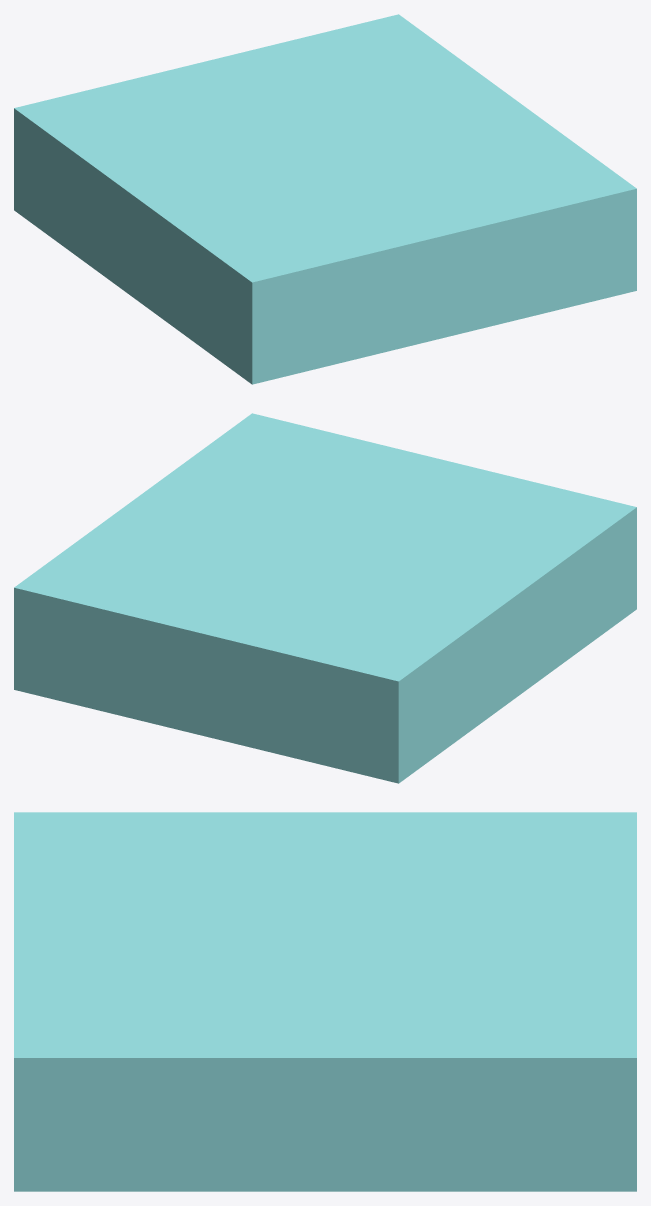
The model's file is compressed_water.glb.
The picture shows the model from 3 angles, top to bottom: view 1: azimuth 30°, elevation 25°; view 2: azimuth 150°, elevation 25°; view 3: azimuth 270°, elevation 25°; orthographic projection. The views are drawn at different scales.
Parts seen in each view (by area): view 1: Object_2; view 2: Object_2; view 3: Object_2.
Boxes of the visible parts, <box> form: Object_2: <box>14,14,636,384</box>; Object_2: <box>14,413,636,783</box>; Object_2: <box>14,812,636,1191</box>.
Bounding box in the file's own units: 159 × 40.41 × 171.
Materials: 1 (1 with a texture image).
